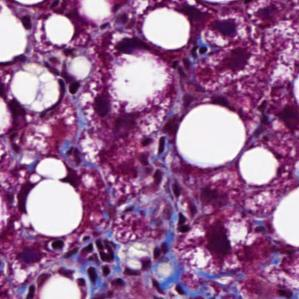inflammation: (208, 12, 261, 80), (199, 214, 247, 269), (87, 84, 130, 134)
